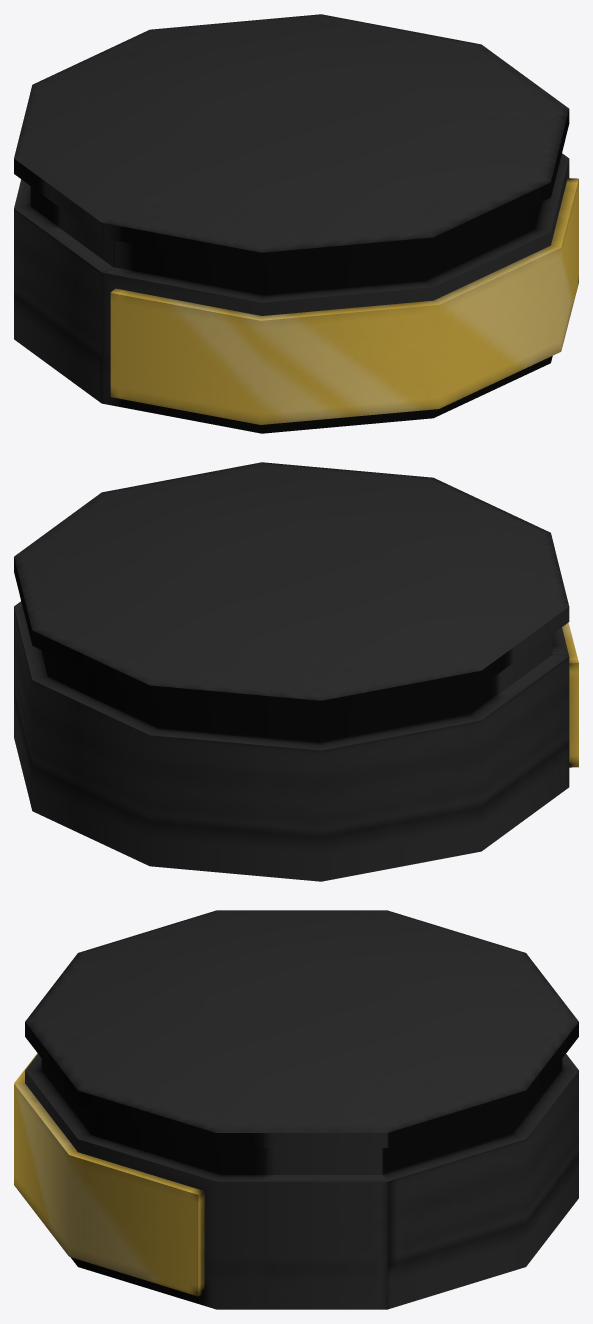
Rendered from Circular_Base.FBX.
3 renders of one model, top to bottom at view 1: azimuth 30°, elevation 25°; view 2: azimuth 150°, elevation 25°; view 3: azimuth 270°, elevation 25°, orthographic. The views are drawn at different scales.
Visible parts, largest first — view 1: Circular_Base; view 2: Circular_Base; view 3: Circular_Base.
Part boxes in pixels (box(x1,y1,x2,y2)): Circular_Base: box(14, 14, 578, 433); Circular_Base: box(14, 462, 578, 881); Circular_Base: box(14, 910, 578, 1309).
Size of the model in its own units: 9.53 by 3.98 by 10.2.
